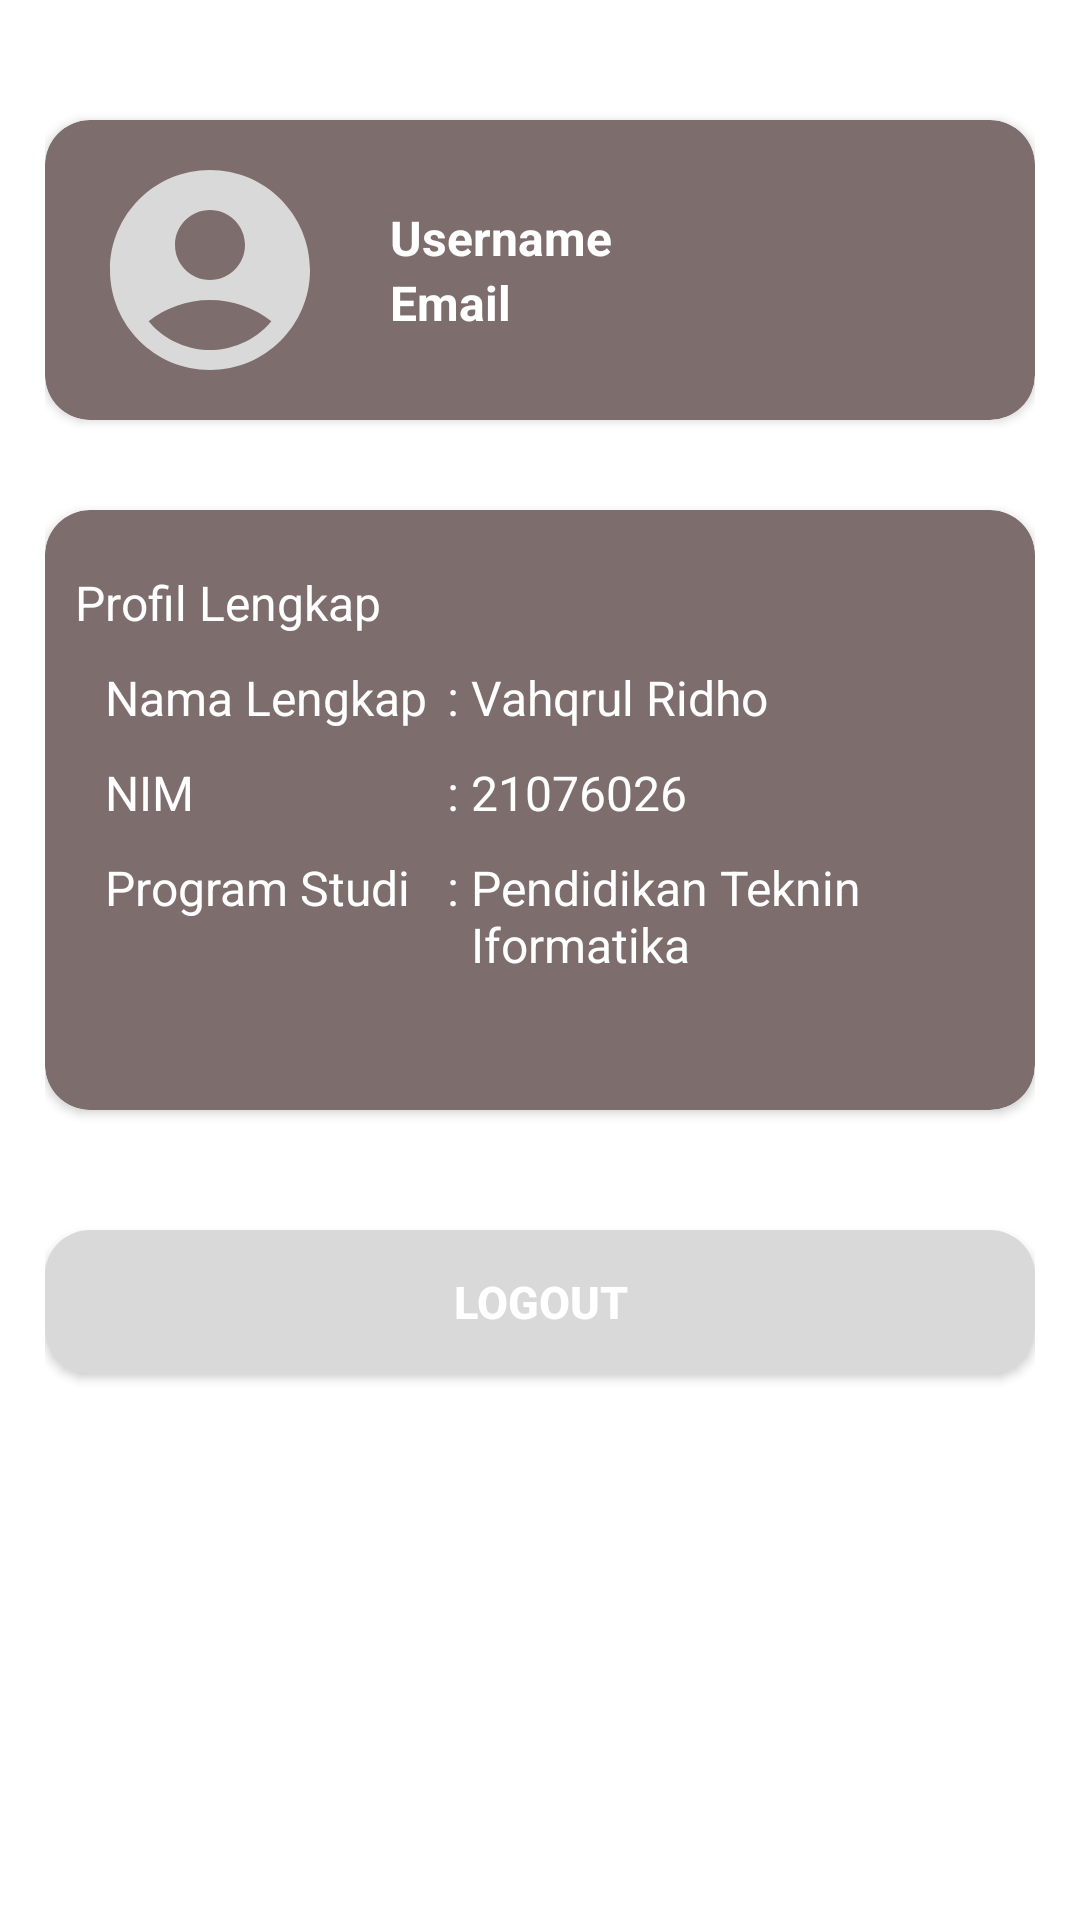

Point at icon controls on the screen. Image size 1080w x 1920h, points as (x,y).
profile: (210,270)
